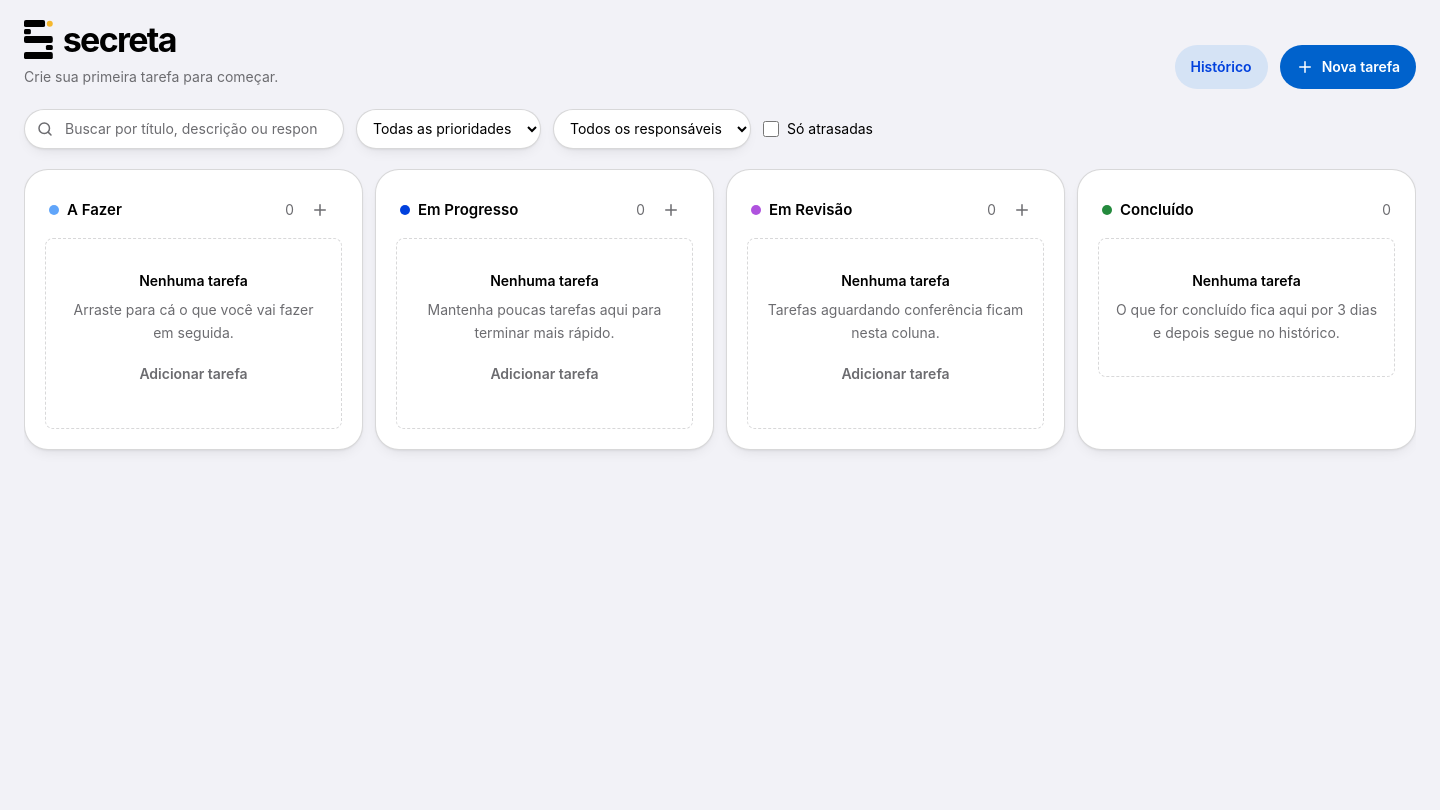
Scenario: App › mostra o histórico de concluídas com opção de baixar
Click the button "Histórico" at (1221, 67), box [1174,45,1268,89]
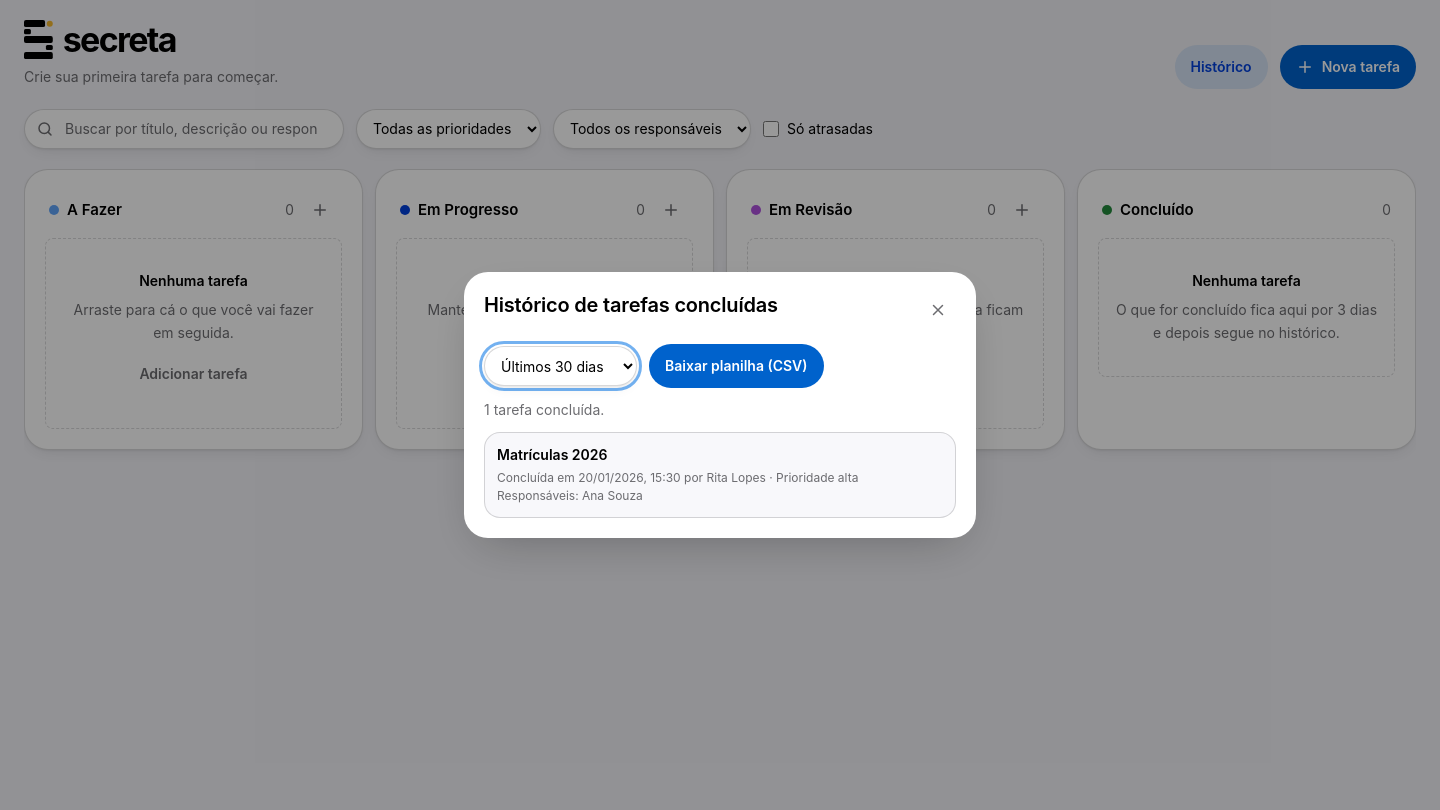
expect the text "Matrículas 2026" is shown: met, box [497,446,608,463]
expect the dropdown named "Período do histórico" shows "Últimos 30 dias": met, box [484,346,637,386]
expect the button "Baixar planilha (CSV)" is enabled: met, box [649,344,824,388]
